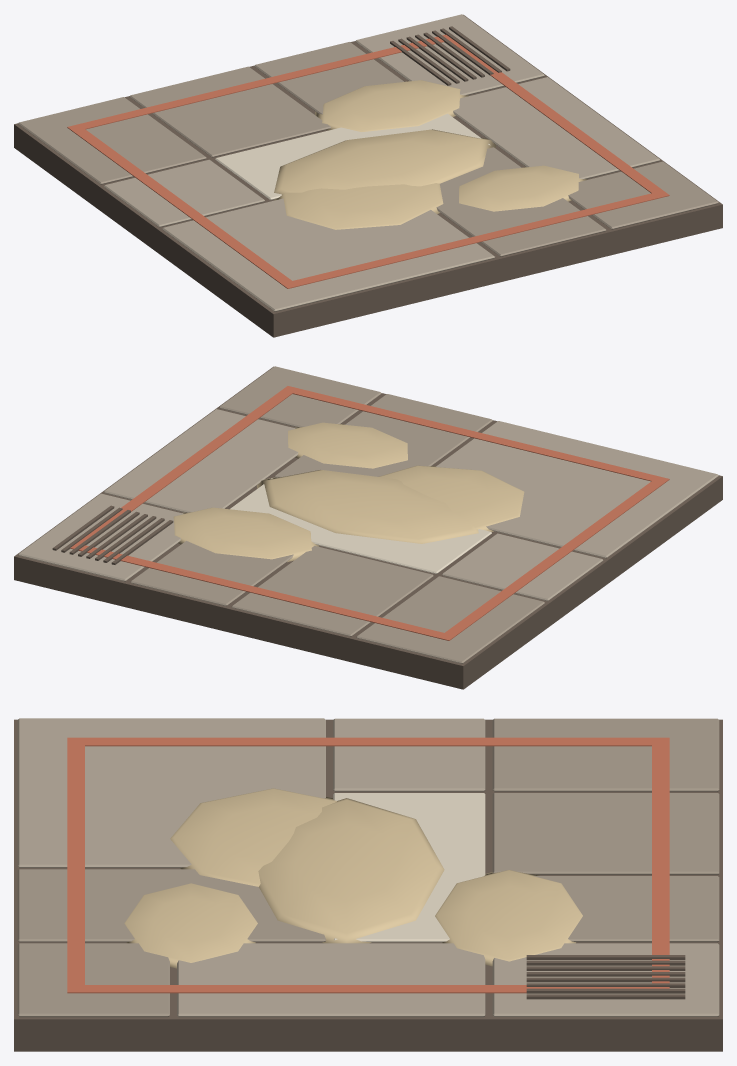
The model's file is floor_du_work.glb.
3 renders of one model, top to bottom at view 1: azimuth 30°, elevation 25°; view 2: azimuth 150°, elevation 25°; view 3: azimuth 270°, elevation 25°, orthographic. The views are drawn at different scales.
Visible parts, largest first — view 1: floor_du_work; view 2: floor_du_work; view 3: floor_du_work.
Boxes of the visible parts, x1,y1,x2,y2 form: floor_du_work: [14, 14, 722, 337]; floor_du_work: [14, 366, 722, 689]; floor_du_work: [14, 718, 722, 1051].
Bounding box in the file's own units: 4 × 0.2791 × 4.
